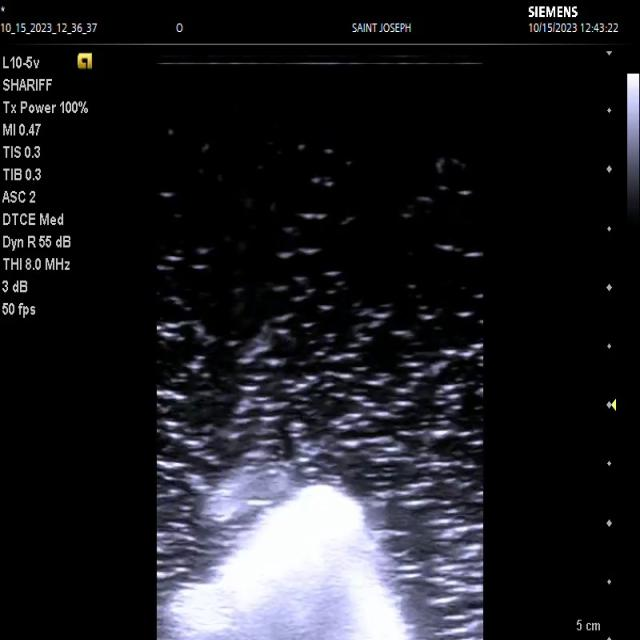tissue: (158, 483, 421, 640)
